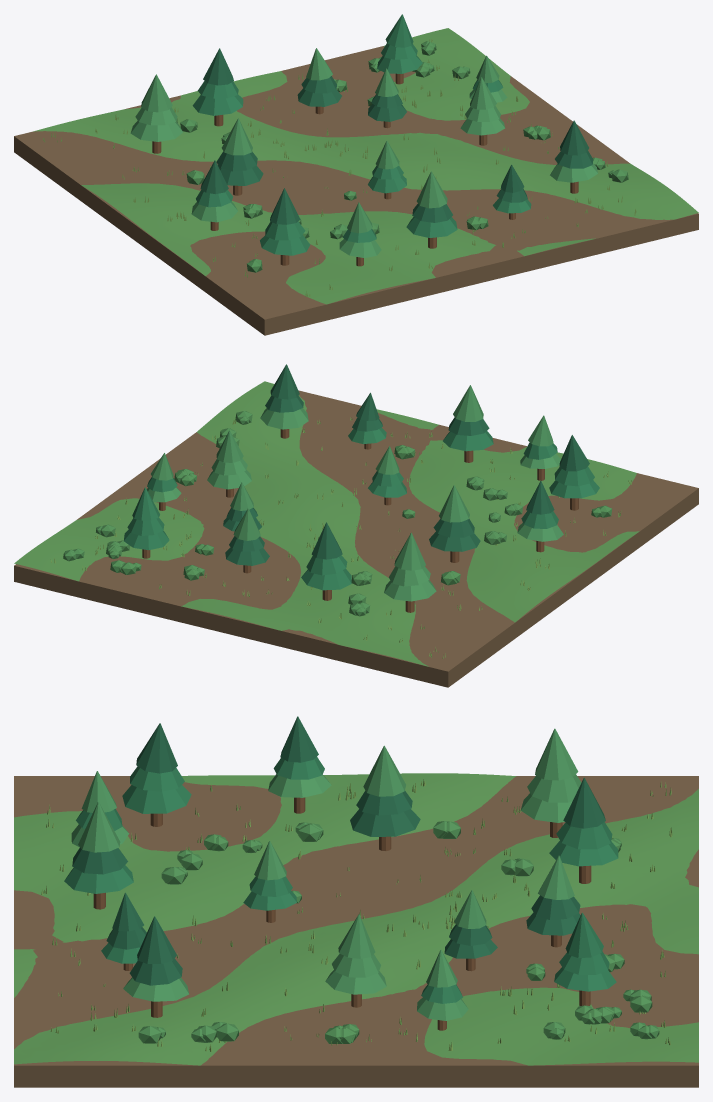
File: godot_grassy_forest.glb
The picture shows the model from 3 angles, top to bottom: view 1: azimuth 30°, elevation 25°; view 2: azimuth 150°, elevation 25°; view 3: azimuth 270°, elevation 25°; orthographic projection. The views are drawn at different scales.
Visible parts, largest first — view 1: Earth underside, Meadow ground 24m x 24m, Tree 11 canopy 1, Tree 10 canopy 1, Tree 03 canopy 1, Tree 01 canopy 1, Tree 10 canopy 3, Tree 07 canopy 3, Tree 03 canopy 3, Tree 06 canopy 1, Tree 11 canopy 3, Tree 01 canopy 3 (+19 smaller); view 2: Earth underside, Meadow ground 24m x 24m, Tree 10 canopy 1, Tree 05 canopy 1, Tree 11 canopy 1, Tree 03 canopy 1, Tree 07 canopy 1, Tree 10 canopy 3, Tree 07 canopy 3, Tree 03 canopy 3, Tree 01 canopy 3, Tree 11 canopy 3 (+18 smaller); view 3: Earth underside, Meadow ground 24m x 24m, Tree 01 canopy 1, Tree 07 canopy 1, Tree 03 canopy 1, Tree 10 canopy 3, Tree 07 canopy 3, Tree 03 canopy 3, Tree 01 canopy 3, Tree 11 canopy 3, Tree 11 canopy 1, Tree 11 canopy 2 (+32 smaller).
Boxes of the visible parts, x1,y1,x2,y2 form: Earth underside: [14, 46, 698, 335]; Meadow ground 24m x 24m: [33, 28, 698, 304]; Tree 11 canopy 1: [192, 94, 243, 115]; Tree 10 canopy 1: [130, 120, 182, 141]; Tree 03 canopy 1: [406, 217, 457, 237]; Tree 01 canopy 1: [260, 235, 310, 255]; Tree 10 canopy 3: [141, 74, 172, 112]; Tree 07 canopy 3: [221, 118, 252, 155]; Tree 03 canopy 3: [416, 171, 447, 208]; Tree 06 canopy 1: [191, 201, 237, 222]; Tree 11 canopy 3: [203, 48, 233, 85]; Tree 01 canopy 3: [270, 188, 300, 224]; Earth underside: [14, 390, 698, 687]; Meadow ground 24m x 24m: [14, 381, 639, 666]; Tree 10 canopy 1: [384, 580, 436, 601]; Tree 05 canopy 1: [260, 408, 308, 429]; Tree 11 canopy 1: [301, 568, 351, 590]; Tree 03 canopy 1: [443, 431, 493, 451]; Tree 07 canopy 1: [429, 531, 480, 551]; Tree 10 canopy 3: [394, 532, 425, 570]; Tree 07 canopy 3: [439, 485, 469, 522]; Tree 03 canopy 3: [453, 385, 483, 421]; Tree 01 canopy 3: [559, 435, 589, 471]; Tree 11 canopy 3: [311, 522, 342, 559]; Earth underside: [14, 776, 698, 1087]; Meadow ground 24m x 24m: [14, 773, 698, 1065]; Tree 01 canopy 1: [122, 785, 191, 813]; Tree 07 canopy 1: [350, 809, 420, 836]; Tree 03 canopy 1: [64, 865, 133, 893]; Tree 10 canopy 3: [535, 728, 578, 780]; Tree 07 canopy 3: [363, 745, 405, 796]; Tree 03 canopy 3: [78, 802, 120, 852]; Tree 01 canopy 3: [136, 723, 177, 773]; Tree 11 canopy 3: [563, 777, 605, 828]; Tree 11 canopy 1: [549, 841, 618, 866]; Tree 11 canopy 2: [556, 822, 612, 849].
Size of the model in its own units: 24 by 5 by 24.
